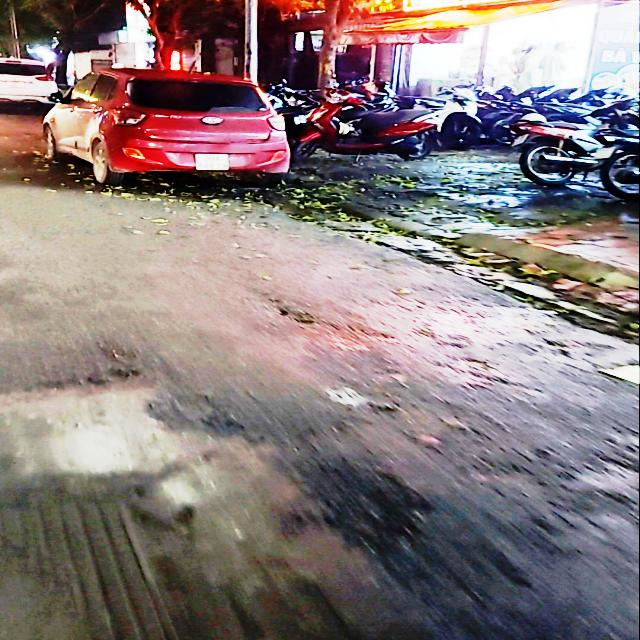license_plate: (195, 154, 231, 172)
